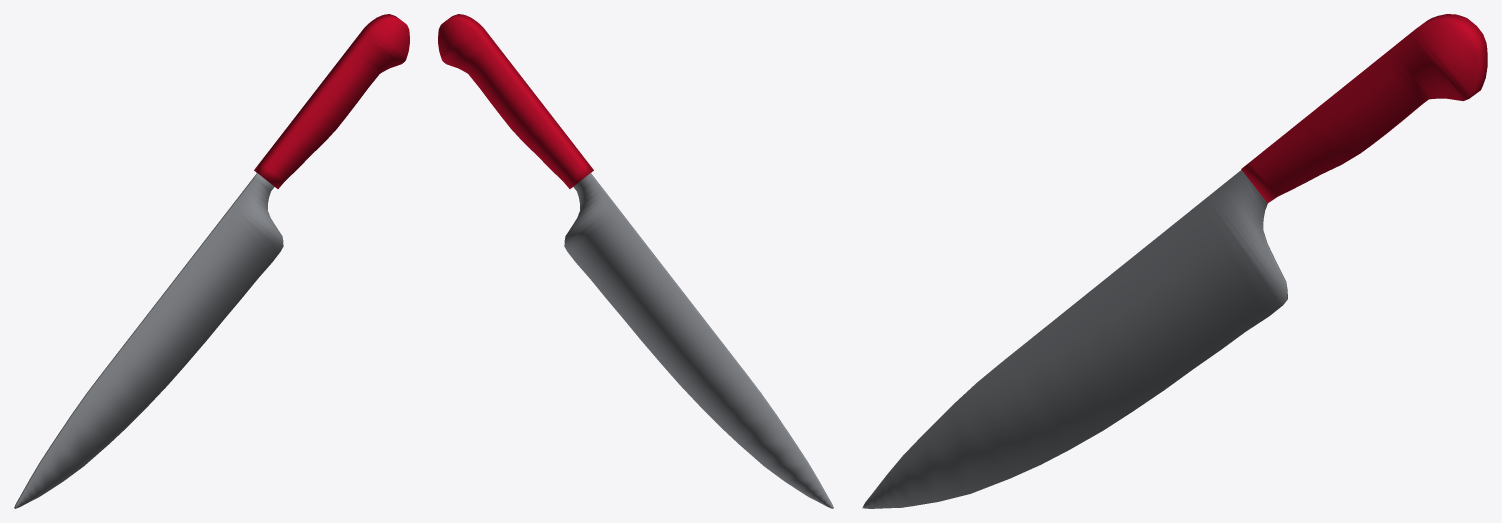
Rendered from Knife.fbx.
3 renders of one model, left to right at view 1: azimuth 30°, elevation 25°; view 2: azimuth 150°, elevation 25°; view 3: azimuth 330°, elevation 25°, orthographic. The views are drawn at different scales.
Visible parts, largest first — view 1: Blade; view 2: Blade; view 3: Blade.
Part boxes in pixels (bbox=[...]): Blade: bbox=[14, 14, 409, 508]; Blade: bbox=[438, 14, 833, 508]; Blade: bbox=[862, 14, 1487, 508].
Bounding box in the file's own units: 17.27 × 16.85 × 0.5686.
